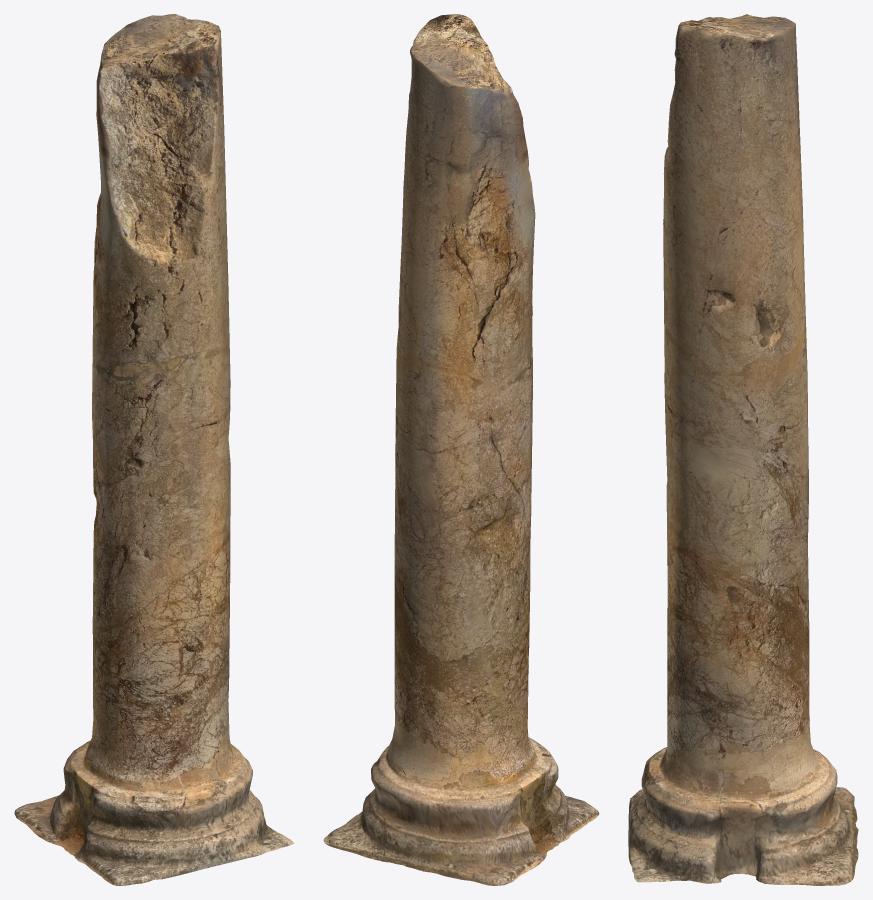
File: roman-column-byrsa-hill-carthage.glb
The picture shows the model from 3 angles, left to right: view 1: azimuth 30°, elevation 25°; view 2: azimuth 150°, elevation 25°; view 3: azimuth 270°, elevation 25°; orthographic projection. The views are drawn at different scales.
Visible parts, largest first — view 1: Object_2; view 2: Object_2; view 3: Object_2.
Boxes of the visible parts, x1,y1,x2,y2 form: Object_2: (14,14,294,885); Object_2: (323,14,599,885); Object_2: (628,14,858,885).
Bounding box in the file's own units: 0.6181 × 2.46 × 0.6178.
Materials: 1 (1 with a texture image).
